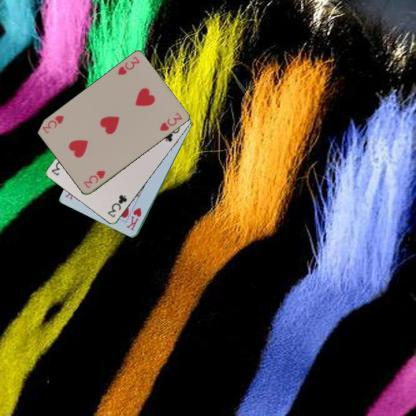3c: (105, 192, 128, 218)
3h: (81, 167, 107, 190), (115, 54, 141, 77)
Kh: (124, 205, 142, 232)
